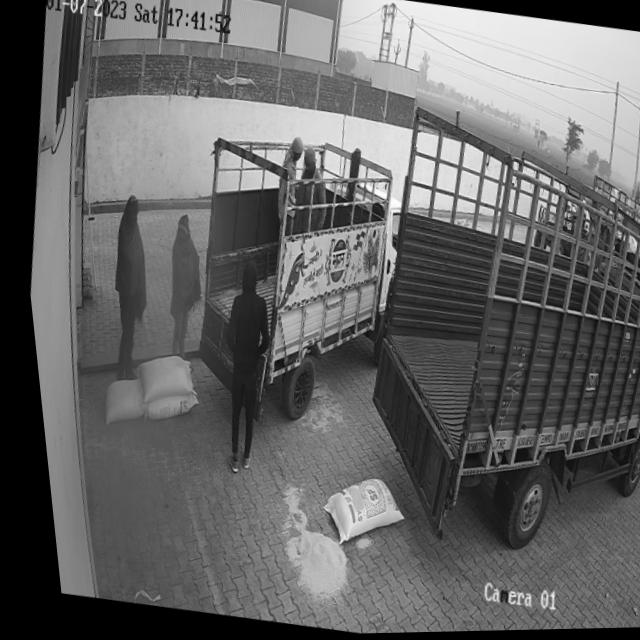sack: (303, 471, 401, 553), (123, 350, 190, 408), (90, 372, 141, 429), (134, 386, 193, 427)
